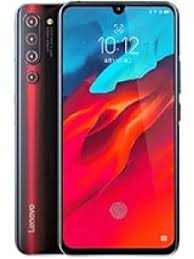lenovo: (13, 1, 180, 253), (55, 1, 179, 257)
